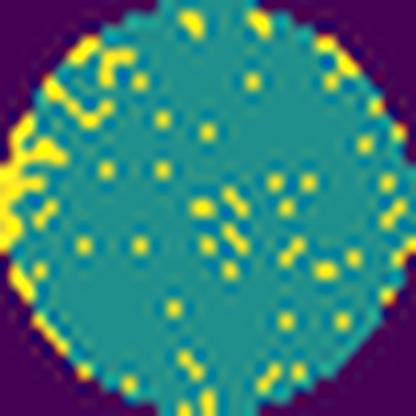Edge-Loc: (0, 110, 76, 257)
